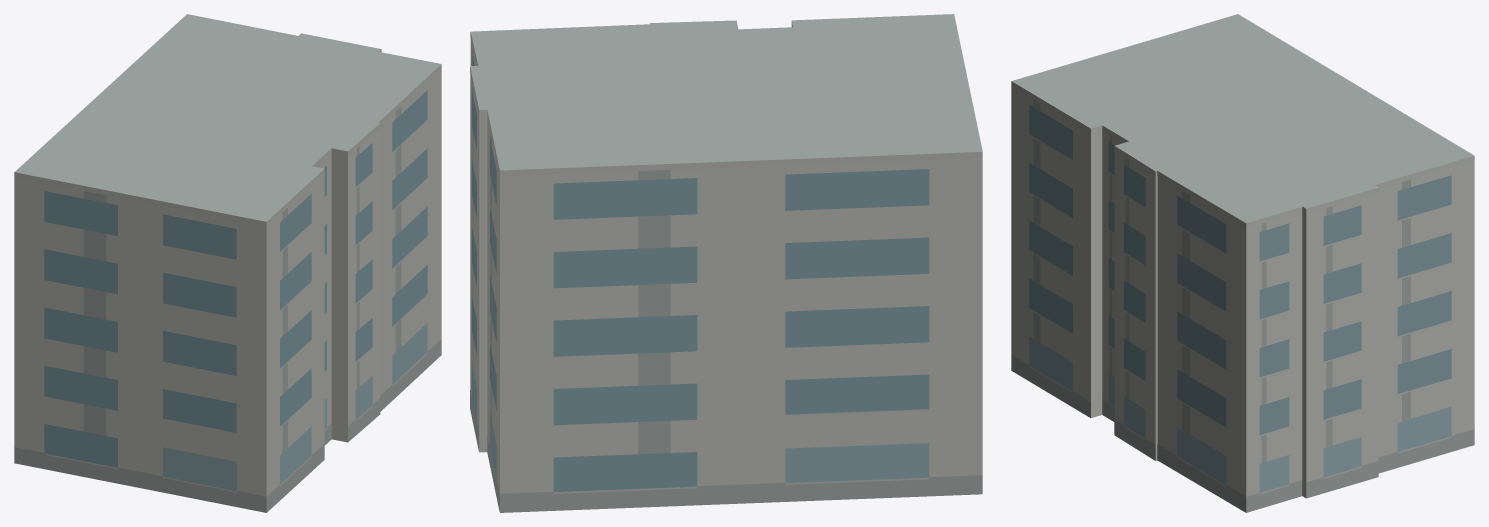
Rendered from survey-upis-32678061.glb.
The picture shows the model from 3 angles, left to right: view 1: azimuth 30°, elevation 25°; view 2: azimuth 150°, elevation 25°; view 3: azimuth 270°, elevation 25°; orthographic projection. The views are drawn at different scales.
Parts seen in each view (by area): view 1: survey-upis-32678061.tmp; view 2: survey-upis-32678061.tmp; view 3: survey-upis-32678061.tmp.
Boxes of the visible parts, x1,y1,x2,y2 form: survey-upis-32678061.tmp: [14, 14, 441, 512]; survey-upis-32678061.tmp: [470, 14, 982, 512]; survey-upis-32678061.tmp: [1011, 14, 1474, 512].
Bounding box in the file's own units: 21.56 × 13.9 × 20.16.
